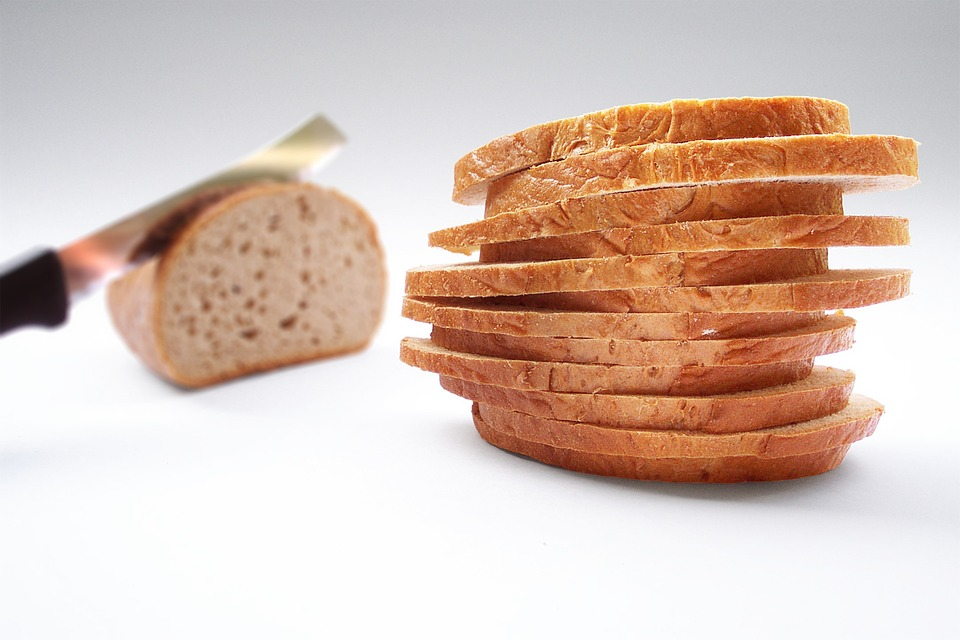slice of bread: (410, 84, 916, 485), (137, 177, 389, 379)
